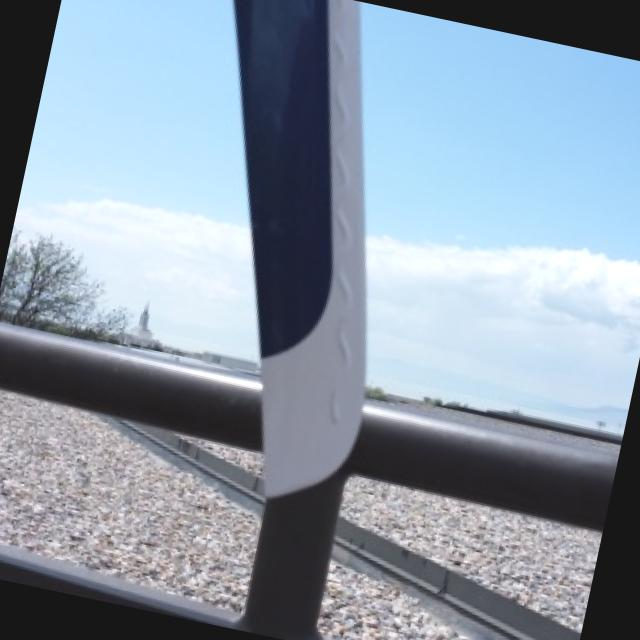healthy: (0, 547, 228, 621)
